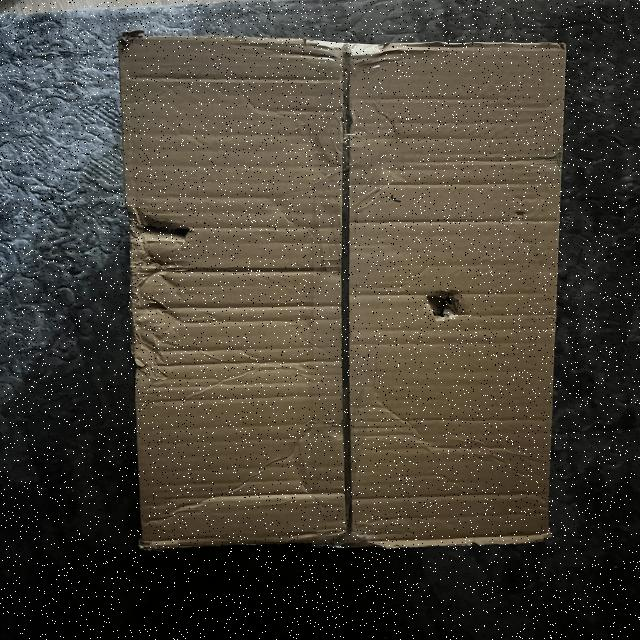damaged: (100, 20, 582, 568), (120, 195, 204, 383), (296, 33, 427, 65), (415, 267, 476, 332), (114, 24, 147, 53)
